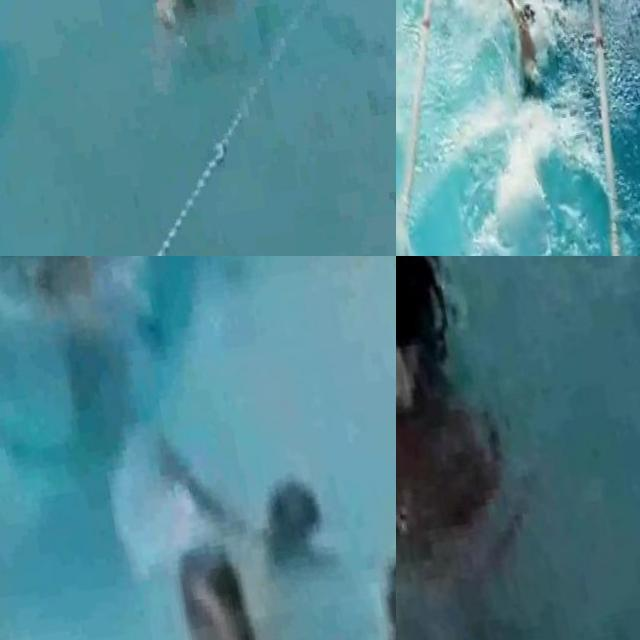drowning: (396, 256, 544, 626), (155, 382, 359, 566), (110, 0, 297, 91)
swimming: (0, 256, 140, 368), (474, 0, 569, 151), (170, 560, 269, 640)
